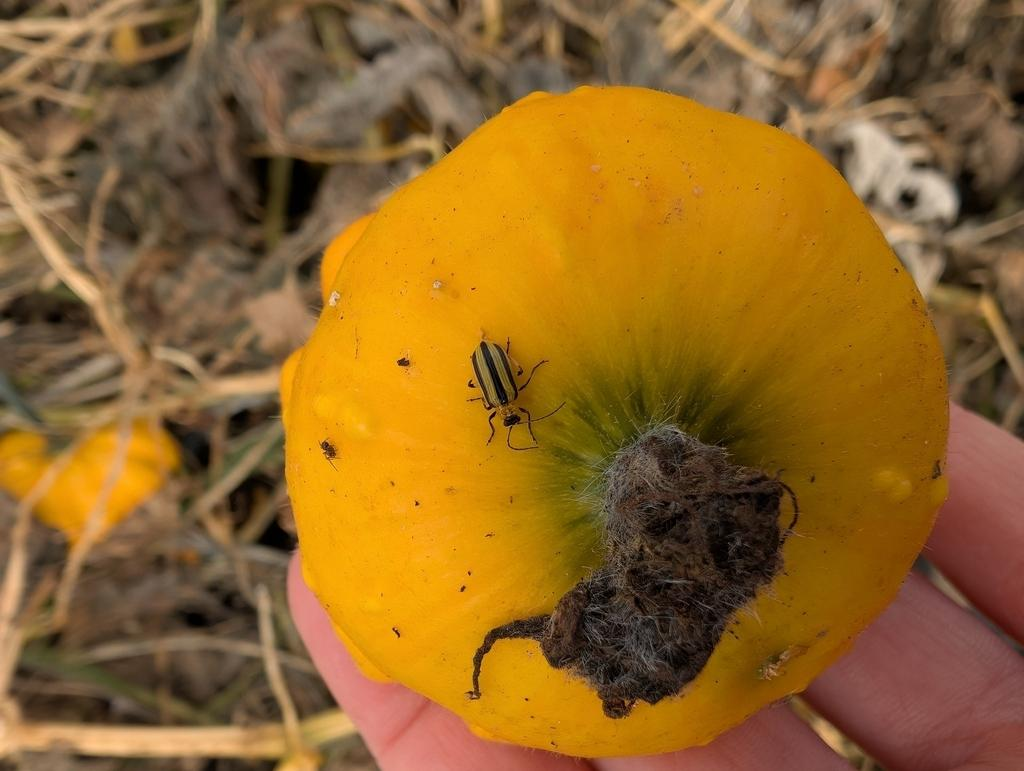potato_beetle: (448, 327, 580, 473)
